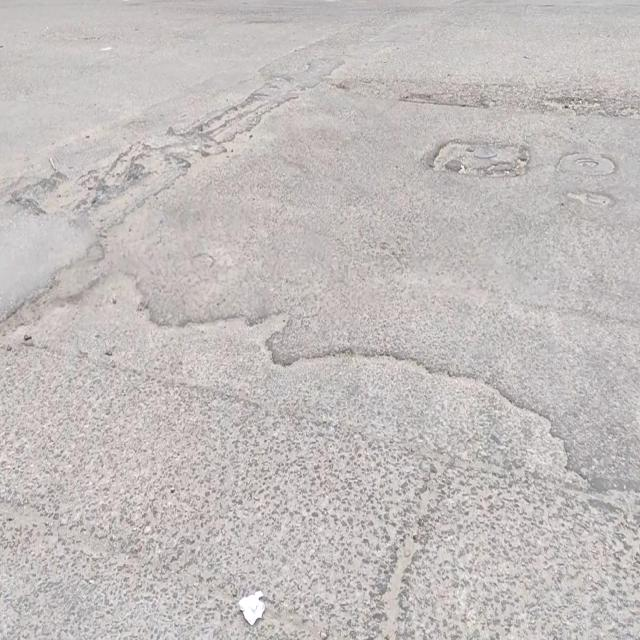Potholes: (427, 136, 531, 182)
